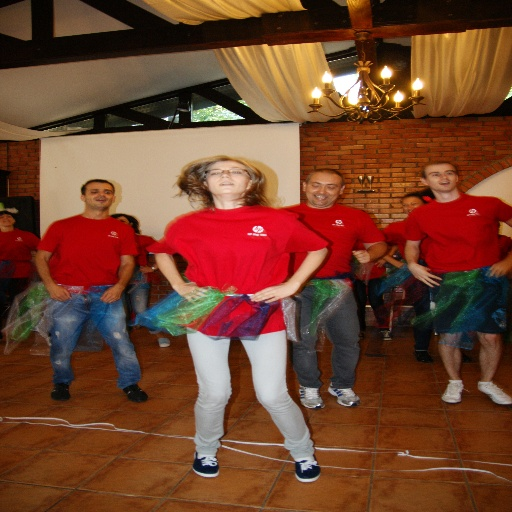hand: (406, 260, 444, 288), (172, 282, 210, 305), (251, 284, 294, 298), (44, 283, 71, 302), (98, 286, 124, 305), (485, 262, 511, 280), (351, 250, 369, 266), (138, 266, 153, 276)
